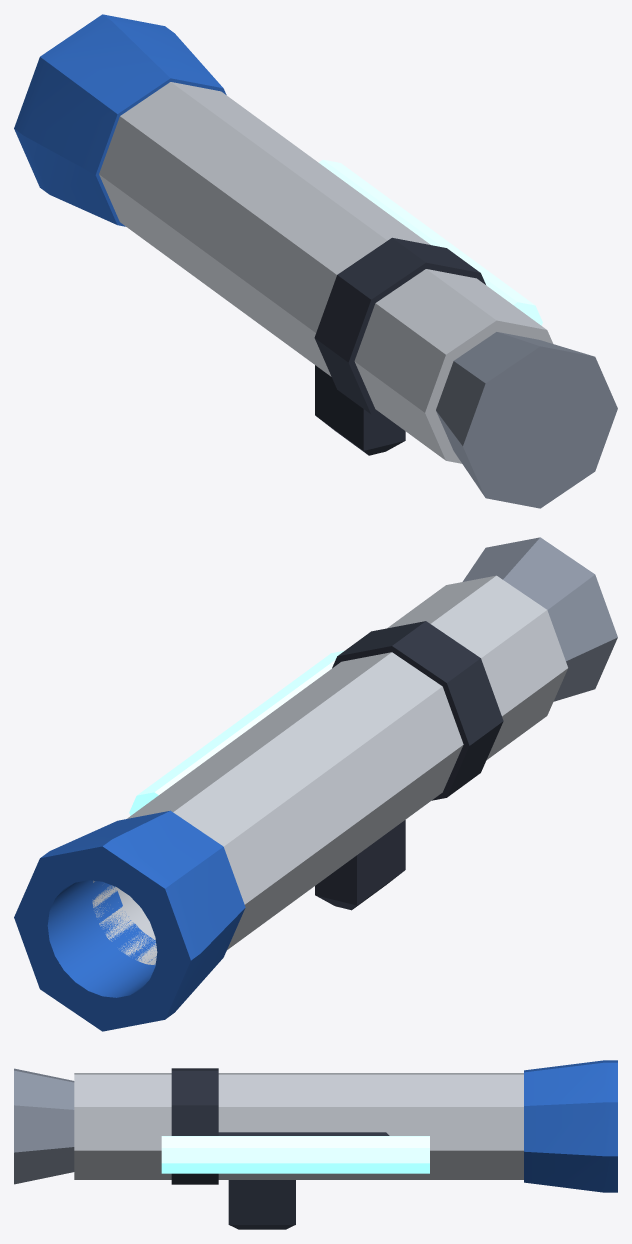
File: w_a_heavy_bazooka.glb
3 renders of one model, top to bottom at view 1: azimuth 30°, elevation 25°; view 2: azimuth 150°, elevation 25°; view 3: azimuth 270°, elevation 25°, orthographic. The views are drawn at different scales.
Parts seen in each view (by area): view 1: weapon_team_color, weapon_body, weapon; view 2: weapon_team_color, weapon_body, weapon; view 3: weapon_team_color, weapon_body, weapon.
Part boxes in pixels (left/top/right/bottom): weapon_team_color: left=99, top=82, right=553, bottom=463; weapon_body: left=14, top=14, right=617, bottom=508; weapon: left=319, top=159, right=542, bottom=325; weapon_team_color: left=92, top=575, right=567, bottom=964; weapon_body: left=14, top=537, right=617, bottom=1031; weapon: left=129, top=650, right=344, bottom=815; weapon_team_color: left=74, top=1073, right=523, bottom=1179; weapon_body: left=14, top=1060, right=617, bottom=1229; weapon: left=161, top=1136, right=429, bottom=1173.
Bounding box in the file's own units: 1.41 × 1.62 × 5.4.
